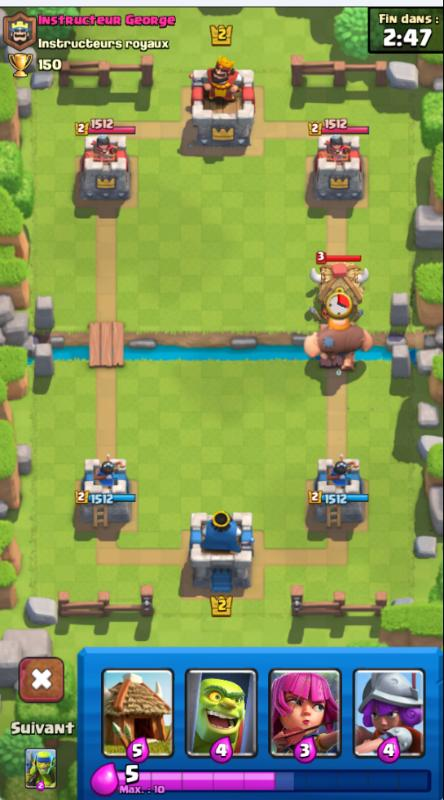geant: (303, 315, 374, 372)
